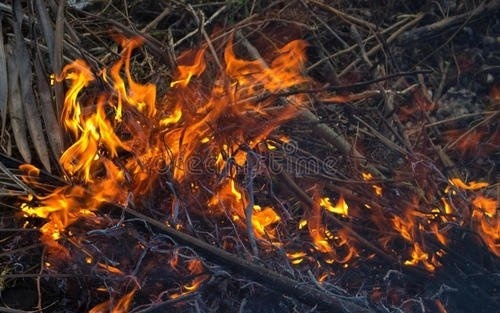fire: (44, 24, 311, 270), (398, 177, 500, 270)
